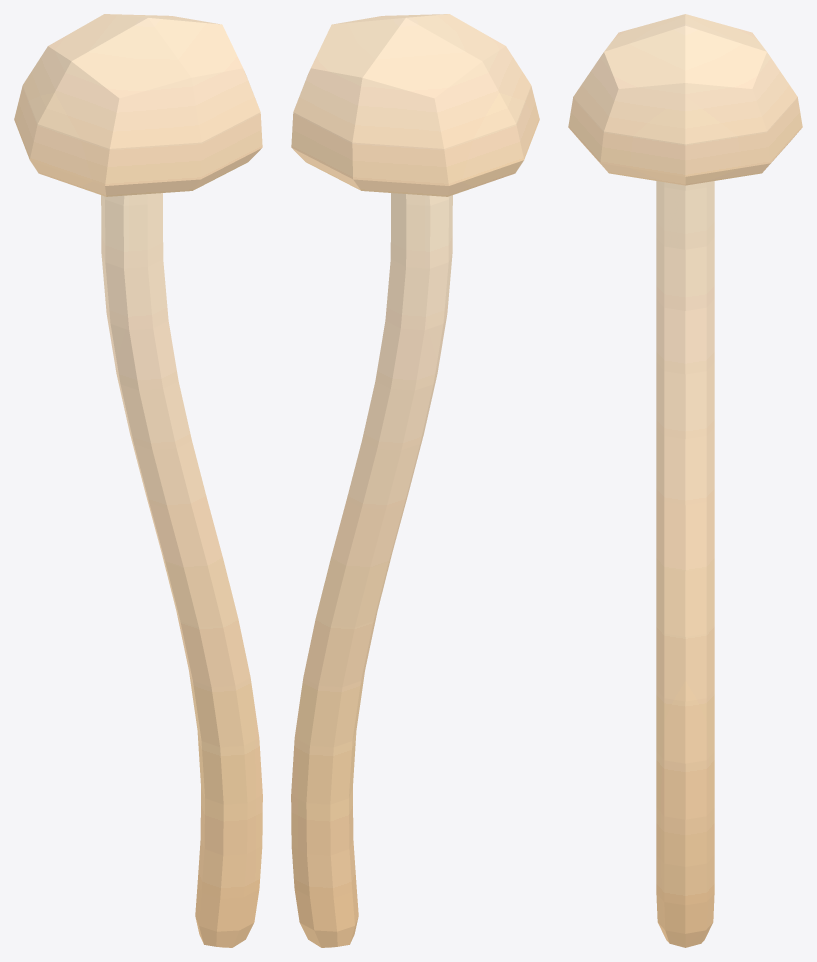
The model's file is Enoki_small.glb.
3 views of the same model, side by side, from view 1: azimuth 30°, elevation 25°; view 2: azimuth 150°, elevation 25°; view 3: azimuth 270°, elevation 25° (orthographic). The views are drawn at different scales.
Parts seen in each view (by area): view 1: Cube.002; view 2: Cube.002; view 3: Cube.002.
Part boxes in pixels (box(x1,y1,x2,y2)): Cube.002: box(14, 14, 262, 947); Cube.002: box(291, 14, 539, 947); Cube.002: box(568, 14, 802, 947).
Bounding box in the file's own units: 1.8 × 7.09 × 1.7.
1 material, 1 textured.
